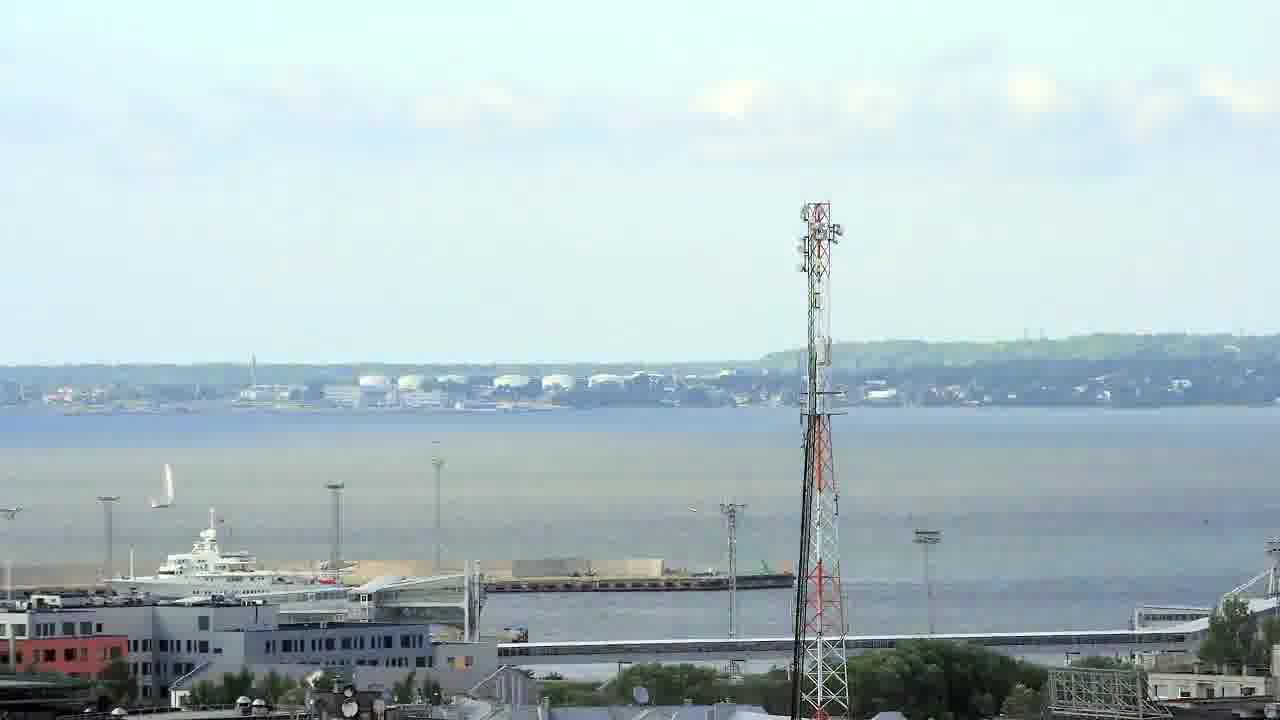type-2: (138, 449, 185, 522)
type-3: (84, 515, 355, 603)
